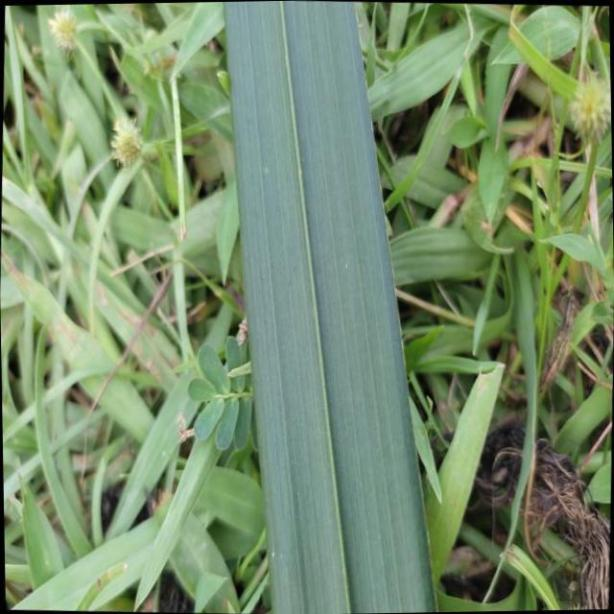Healthy: (221, 0, 436, 614)
